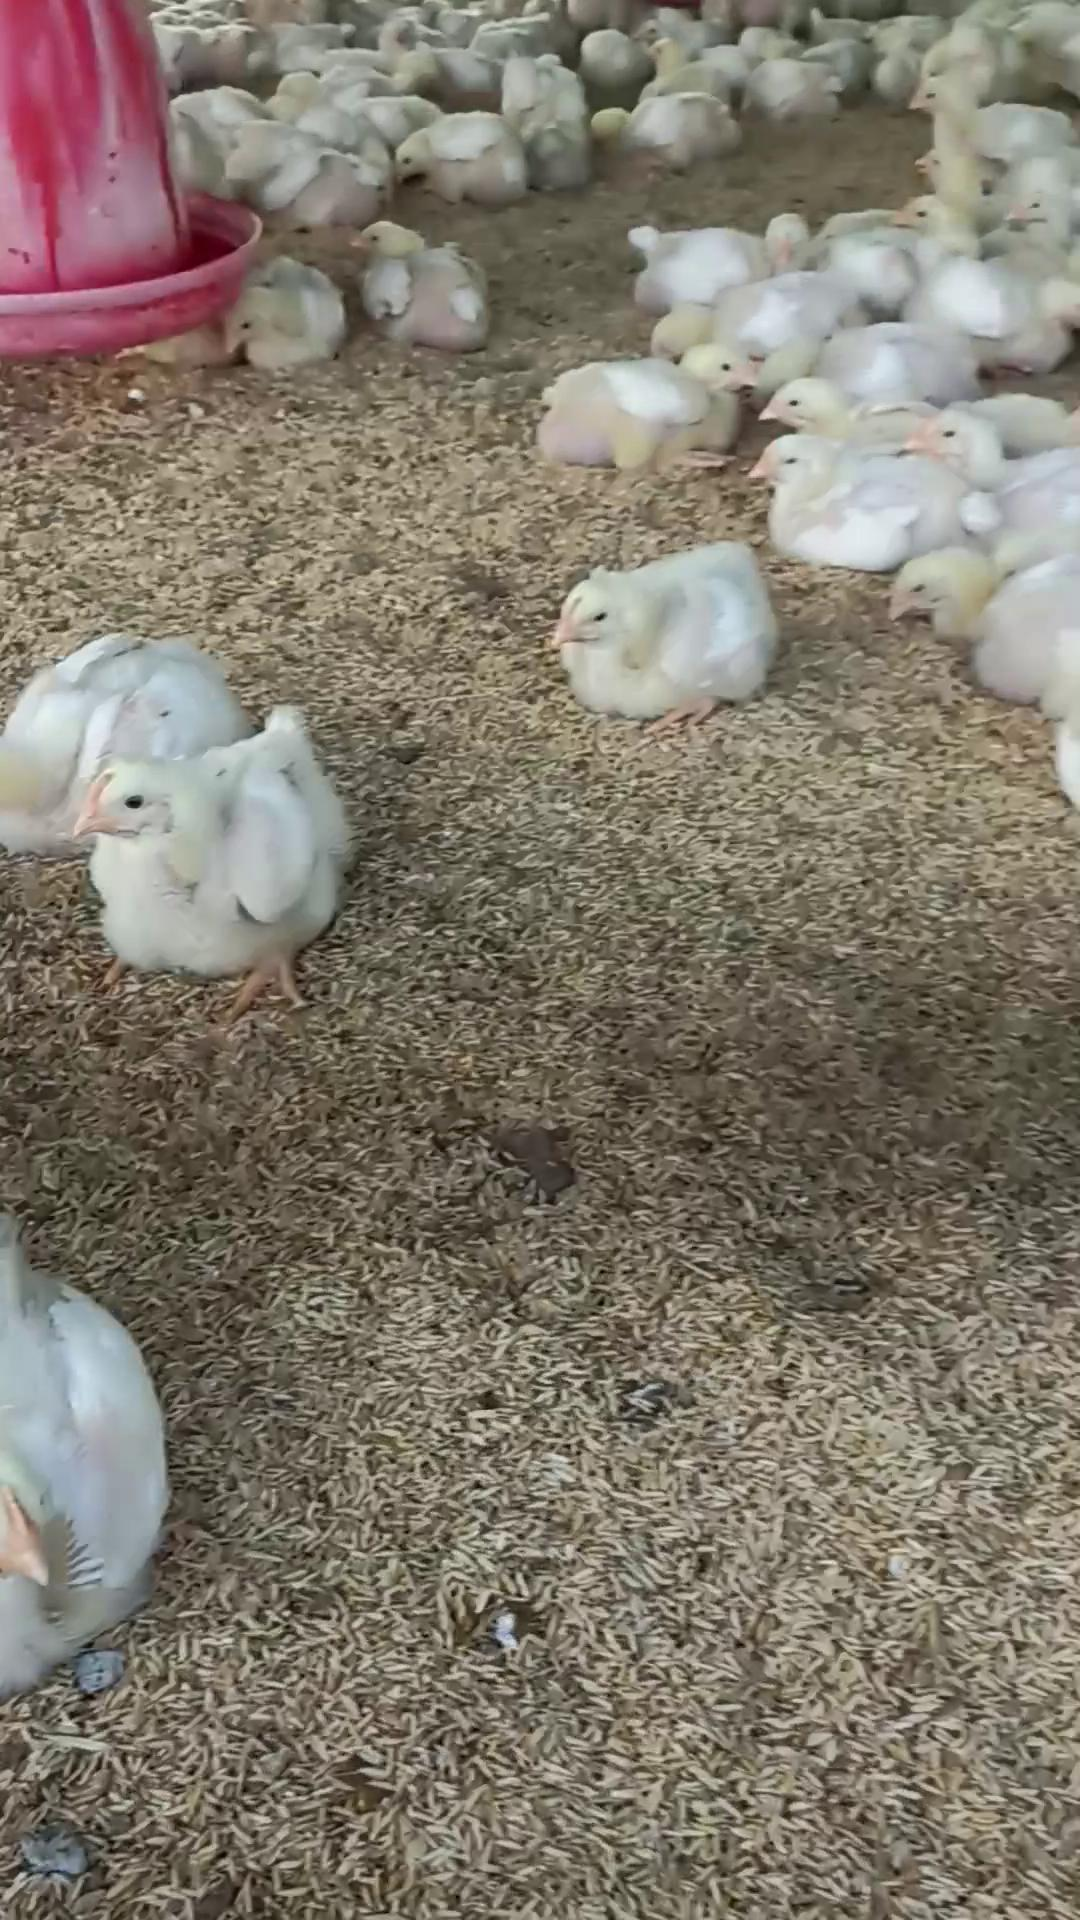Pollos: (87, 696, 348, 967), (553, 535, 771, 715), (535, 345, 760, 472), (748, 435, 949, 549), (349, 218, 496, 345), (880, 541, 1069, 636), (822, 189, 980, 294), (911, 76, 1080, 169), (223, 269, 344, 368), (390, 111, 526, 196)
